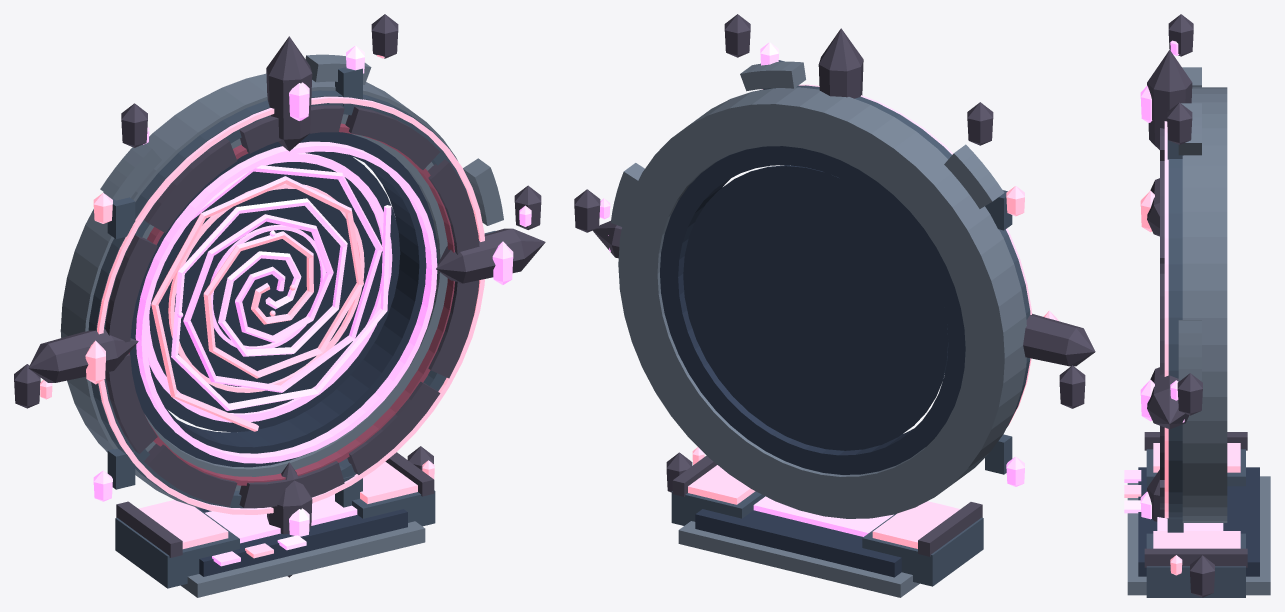
The model's file is astral_eclipse.glb.
The picture shows the model from 3 angles, left to right: view 1: azimuth 30°, elevation 25°; view 2: azimuth 150°, elevation 25°; view 3: azimuth 270°, elevation 25°; orthographic projection. The views are drawn at different scales.
Visible parts, largest first — view 1: MATERIAL_black, MATERIAL_obsidian, MATERIAL_magenta, MATERIAL_gunmetal, MATERIAL_red, MATERIAL_dark, MATERIAL_violet, MATERIAL_deep_red; view 2: MATERIAL_black, MATERIAL_gunmetal, MATERIAL_obsidian, MATERIAL_dark, MATERIAL_red, MATERIAL_magenta; view 3: MATERIAL_gunmetal, MATERIAL_obsidian, MATERIAL_dark, MATERIAL_red, MATERIAL_black, MATERIAL_magenta, MATERIAL_violet.
Part boxes in pixels (<box>): MATERIAL_black: <box>129,132,437,576</box>; MATERIAL_obsidian: <box>14,14,545,577</box>; MATERIAL_magenta: <box>93,82,531,566</box>; MATERIAL_gunmetal: <box>60,54,503,597</box>; MATERIAL_red: <box>40,55,484,558</box>; MATERIAL_dark: <box>88,67,495,588</box>; MATERIAL_violet: <box>171,45,391,550</box>; MATERIAL_deep_red: <box>128,123,454,485</box>; MATERIAL_black: <box>660,146,965,577</box>; MATERIAL_gunmetal: <box>610,61,1026,597</box>; MATERIAL_obsidian: <box>574,14,1095,556</box>; MATERIAL_dark: <box>671,60,1030,586</box>; MATERIAL_red: <box>688,84,1059,548</box>; MATERIAL_magenta: <box>599,198,1024,536</box>; MATERIAL_gunmetal: <box>1127,67,1270,595</box>; MATERIAL_obsidian: <box>1144,14,1247,597</box>; MATERIAL_dark: <box>1146,133,1245,597</box>; MATERIAL_red: <box>1124,121,1240,575</box>; MATERIAL_black: <box>1138,467,1259,576</box>; MATERIAL_magenta: <box>1124,40,1223,530</box>; MATERIAL_violet: <box>1124,491,1151,519</box>.
Bounding box in the file's own units: 7.85 × 7.73 × 1.99.
